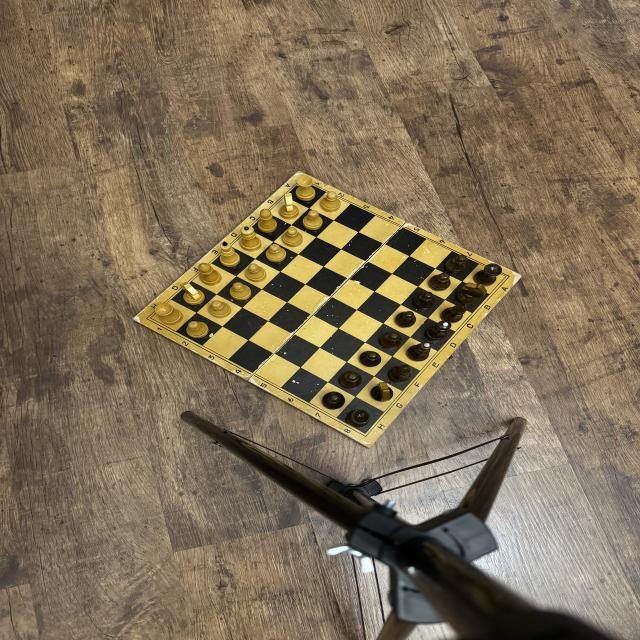black-bishop: (440, 304, 468, 324), (388, 364, 412, 384)
black-king: (406, 342, 432, 362)
black-knight: (456, 282, 487, 304), (371, 382, 394, 402)
black-pawn: (428, 272, 452, 292), (413, 291, 436, 310), (359, 350, 382, 368), (378, 332, 402, 349), (338, 371, 362, 388), (446, 254, 466, 274), (322, 392, 345, 409), (396, 311, 416, 328)
black-queen: (424, 320, 452, 342)
black-rook: (473, 264, 502, 286), (346, 409, 370, 428)
white-bishop: (198, 262, 222, 286), (257, 208, 278, 234)
white-king: (219, 241, 241, 267)
white-knight: (180, 282, 206, 305), (279, 192, 299, 220)
white-pawn: (320, 191, 341, 212), (229, 282, 252, 301), (303, 210, 323, 231), (282, 227, 303, 247), (209, 300, 231, 318), (186, 321, 209, 338), (266, 244, 286, 263), (246, 264, 267, 282)
white-queen: (240, 226, 262, 252)
white-rook: (155, 303, 183, 325), (296, 176, 316, 202)
